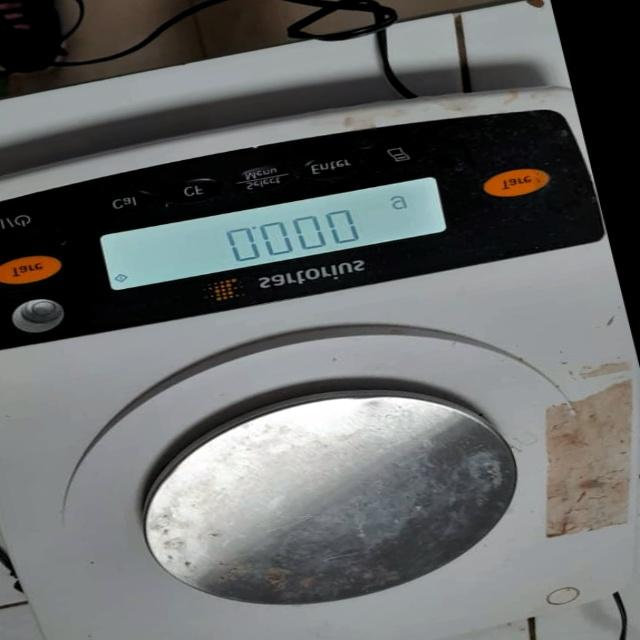Electronic balance: (0, 57, 640, 640)
